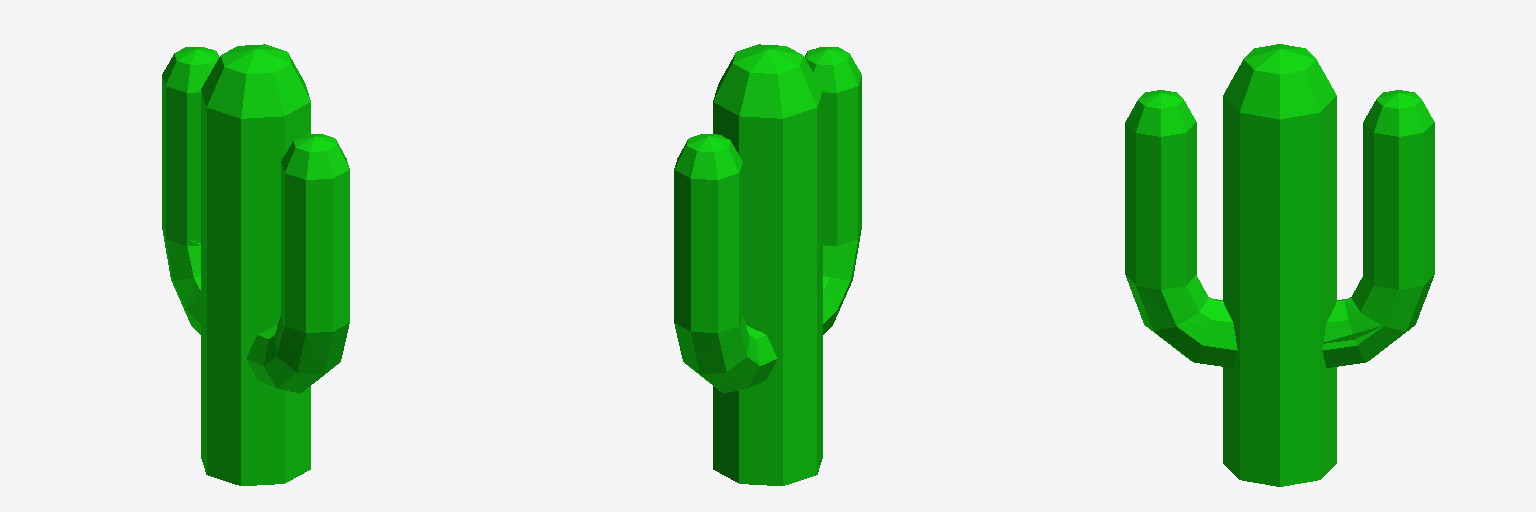
Rendered from cactus1.obj.
3 views of the same model, side by side, from view 1: azimuth 30°, elevation 25°; view 2: azimuth 150°, elevation 25°; view 3: azimuth 270°, elevation 25° (orthographic).
Visible parts, largest first — view 1: cactus008_frag_011, cactus008_frag_013, cactus008_frag_002, cactus008_frag_001, cactus008_frag_005, cactus008_frag_012, cactus008_frag_010, cactus008_frag_006, cactus008_frag_008; view 2: cactus008_frag_011, cactus008_frag_005, cactus008_frag_012, cactus008_frag_013, cactus008_frag_006, cactus008_frag_010, cactus008_frag_002, cactus008_frag_008, cactus008_frag_003; view 3: cactus008_frag_011, cactus008_frag_003, cactus008_frag_002, cactus008_frag_013, cactus008_frag_012, cactus008_frag_001, cactus008_frag_006, cactus008_frag_010, cactus008_frag_008, cactus008_frag_004, cactus008_frag_005.
Boxes of the visible parts, x1=… form: cactus008_frag_011: x1=201, y1=44, x2=310, y2=298; cactus008_frag_013: x1=281, y1=134, x2=349, y2=297; cactus008_frag_002: x1=246, y1=249, x2=349, y2=393; cactus008_frag_001: x1=239, y1=307, x2=310, y2=485; cactus008_frag_005: x1=201, y1=289, x2=245, y2=485; cactus008_frag_012: x1=162, y1=47, x2=218, y2=202; cactus008_frag_010: x1=201, y1=246, x2=280, y2=352; cactus008_frag_006: x1=162, y1=198, x2=200, y2=334; cactus008_frag_008: x1=162, y1=170, x2=200, y2=243; cactus008_frag_011: x1=713, y1=44, x2=822, y2=274; cactus008_frag_005: x1=725, y1=313, x2=822, y2=485; cactus008_frag_012: x1=674, y1=134, x2=742, y2=274; cactus008_frag_013: x1=805, y1=47, x2=861, y2=229; cactus008_frag_006: x1=674, y1=300, x2=777, y2=393; cactus008_frag_010: x1=743, y1=264, x2=822, y2=324; cactus008_frag_002: x1=823, y1=176, x2=861, y2=334; cactus008_frag_008: x1=674, y1=261, x2=742, y2=306; cactus008_frag_003: x1=713, y1=386, x2=736, y2=481; cactus008_frag_011: x1=1223, y1=44, x2=1336, y2=287; cactus008_frag_003: x1=1251, y1=325, x2=1335, y2=486; cactus008_frag_002: x1=1125, y1=202, x2=1237, y2=367; cactus008_frag_013: x1=1125, y1=90, x2=1196, y2=258; cactus008_frag_012: x1=1363, y1=90, x2=1434, y2=239; cactus008_frag_001: x1=1223, y1=282, x2=1270, y2=481; cactus008_frag_006: x1=1323, y1=243, x2=1434, y2=367; cactus008_frag_010: x1=1223, y1=243, x2=1336, y2=345; cactus008_frag_008: x1=1361, y1=211, x2=1434, y2=290; cactus008_frag_004: x1=1322, y1=326, x2=1383, y2=362; cactus008_frag_005: x1=1321, y1=293, x2=1336, y2=463.
Bounding box in the file's own units: 1.52 × 6.09 × 4.12.